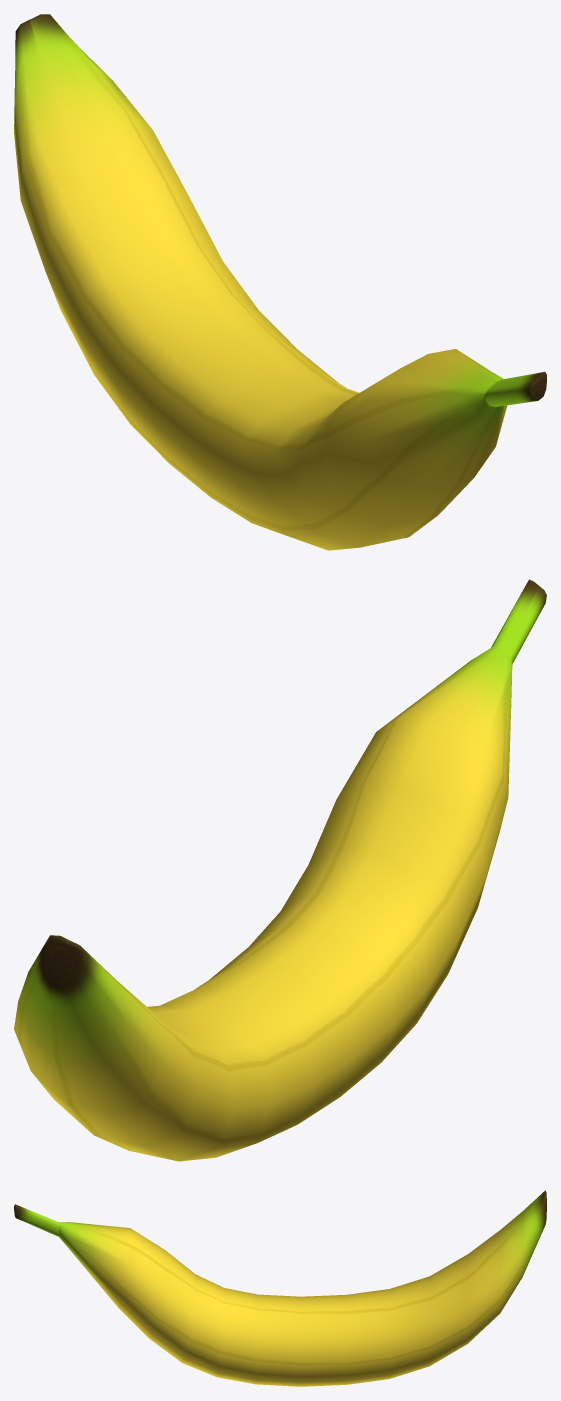
The model's file is BananaV3.fbx.
The picture shows the model from 3 angles, top to bottom: view 1: azimuth 30°, elevation 25°; view 2: azimuth 150°, elevation 25°; view 3: azimuth 270°, elevation 25°; orthographic projection. The views are drawn at different scales.
Parts seen in each view (by area): view 1: BananaFrame_20190326_1339:RoadKillOut; view 2: BananaFrame_20190326_1339:RoadKillOut; view 3: BananaFrame_20190326_1339:RoadKillOut.
Boxes of the visible parts, box(x1,y1,x2,y2) form: BananaFrame_20190326_1339:RoadKillOut: box(14, 14, 546, 550); BananaFrame_20190326_1339:RoadKillOut: box(14, 579, 546, 1161); BananaFrame_20190326_1339:RoadKillOut: box(14, 1190, 546, 1386).
Size of the model in its own units: 2.12 by 4.24 by 11.15.
